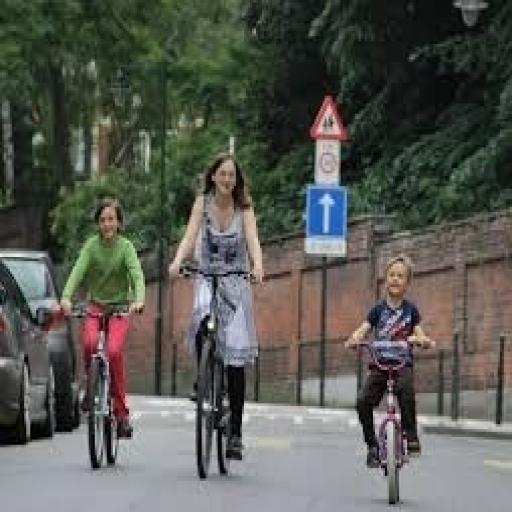cycling: (165, 150, 268, 468), (57, 194, 149, 445), (342, 251, 440, 473)
